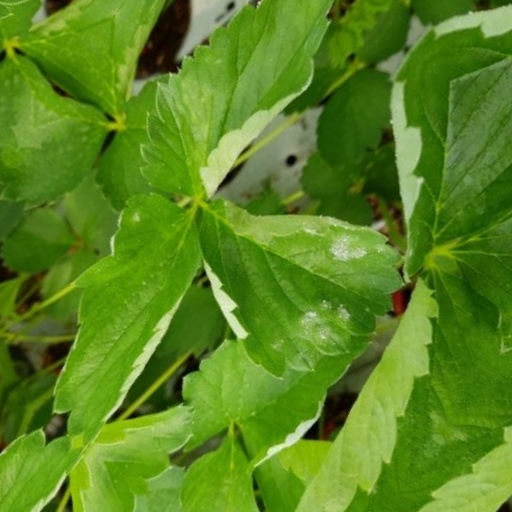Powdery Mildew Leaf: (184, 167, 401, 349), (258, 323, 467, 511), (398, 19, 511, 360), (72, 251, 199, 511), (118, 0, 234, 253), (267, 54, 402, 258)
